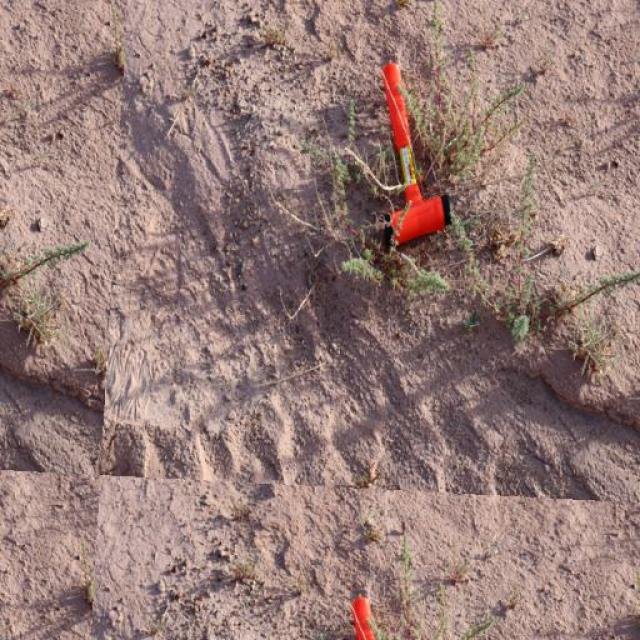mallet: (378, 60, 452, 249)
